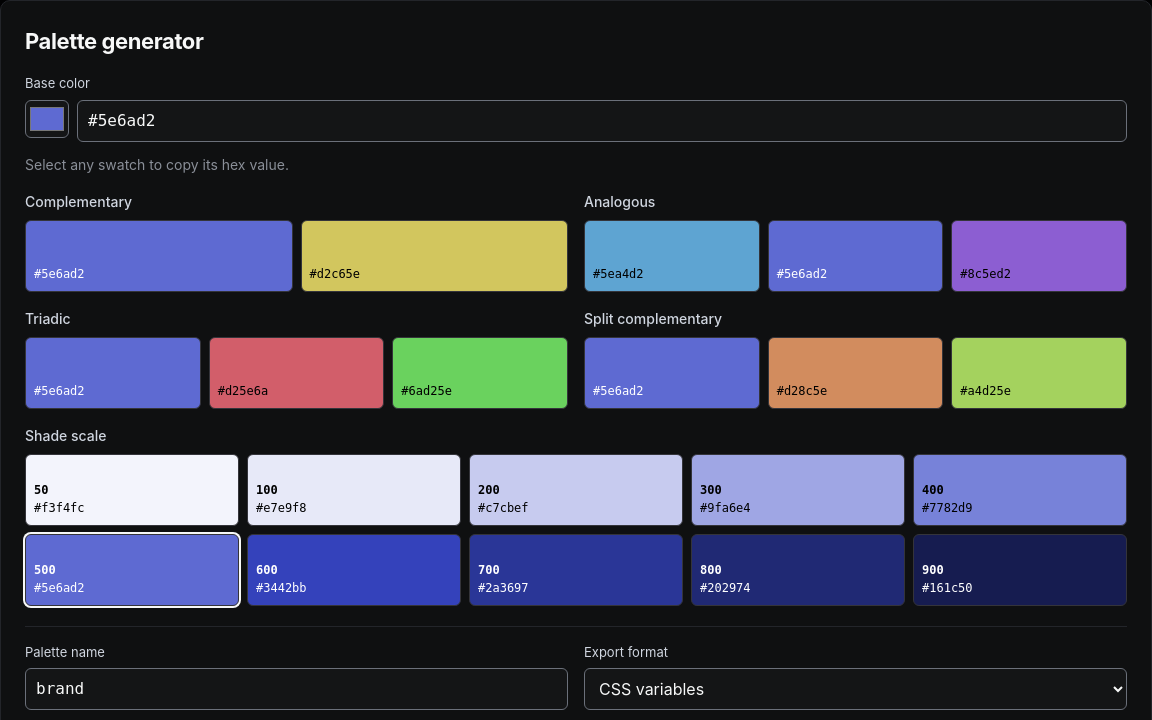
Test: PaletteGenerator › explains when the clipboard is unavailable
Click the 1st button "#5e6ad2".
click(59, 274)  # box [25,220,292,292]
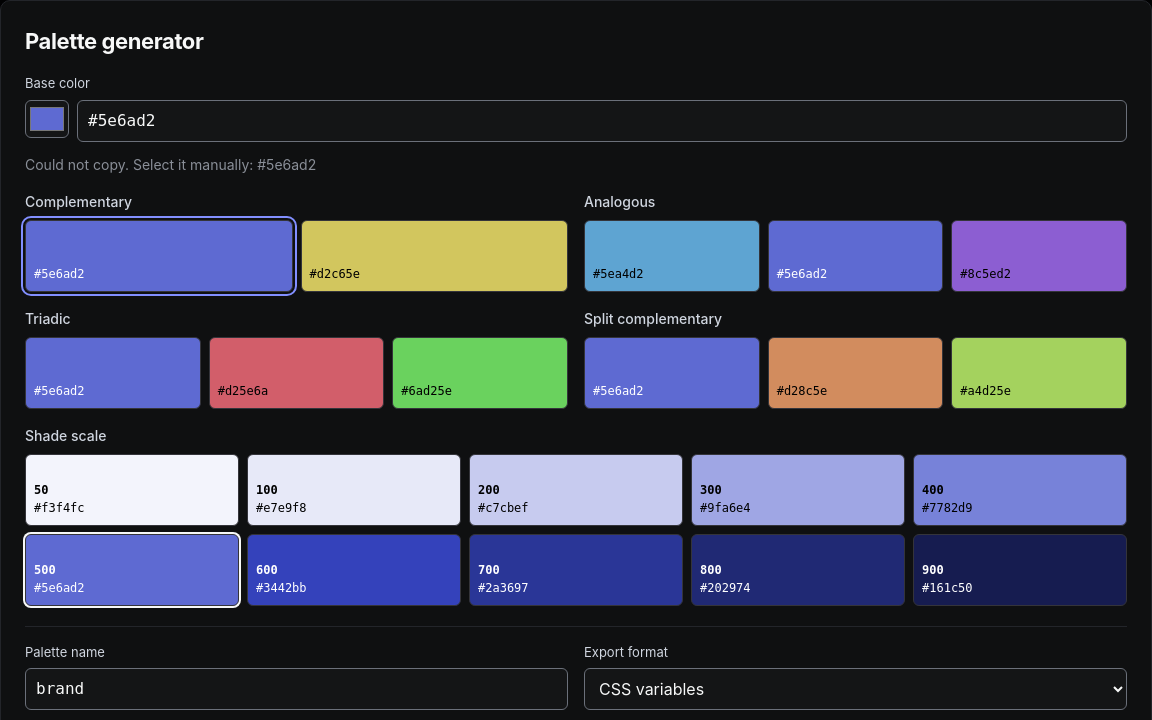
Check: the message shows "Could not copy", box [25,156,316,172]
